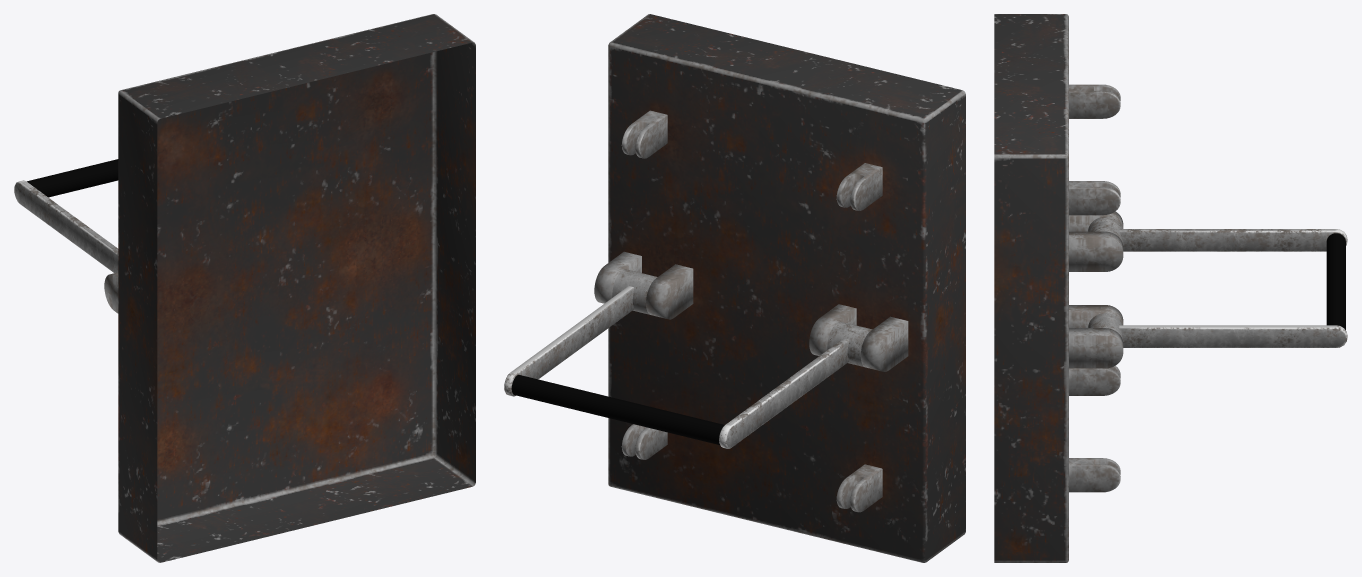
Rendered from rusty_wall_lever.glb.
3 renders of one model, left to right at view 1: azimuth 30°, elevation 25°; view 2: azimuth 150°, elevation 25°; view 3: azimuth 270°, elevation 25°, orthographic. The views are drawn at different scales.
Parts seen in each view (by area): view 1: Lever_v2_Box; view 2: Lever_v2_Box; view 3: Lever_v2_Box.
Part boxes in pixels (left/top/right/bottom): Lever_v2_Box: left=14, top=14, right=475, bottom=562; Lever_v2_Box: left=504, top=14, right=965, bottom=562; Lever_v2_Box: left=994, top=14, right=1347, bottom=562.
Bounding box in the file's own units: 0.3 × 0.4 × 0.3133.
2 materials, 2 textured.
